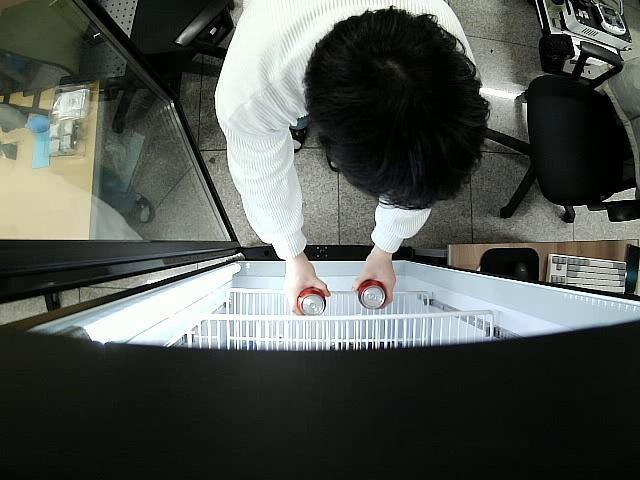11_cocaColaZero: (356, 279, 389, 308), (296, 286, 326, 316)
